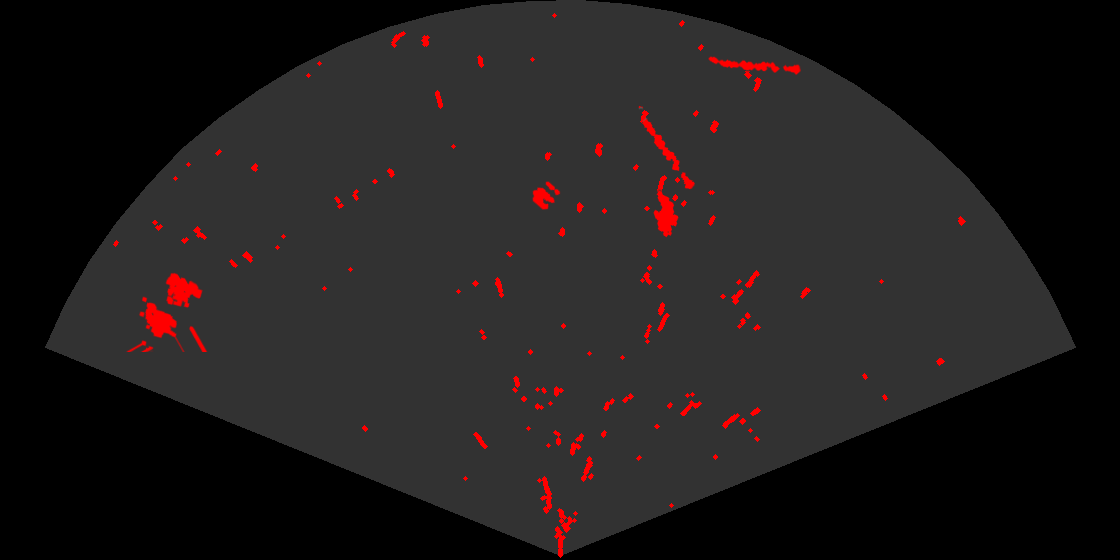AUV: (652, 189, 680, 239)
ball: (531, 180, 562, 211)
cage: (125, 271, 209, 352)
chain: (637, 104, 696, 191), (707, 55, 801, 77)
